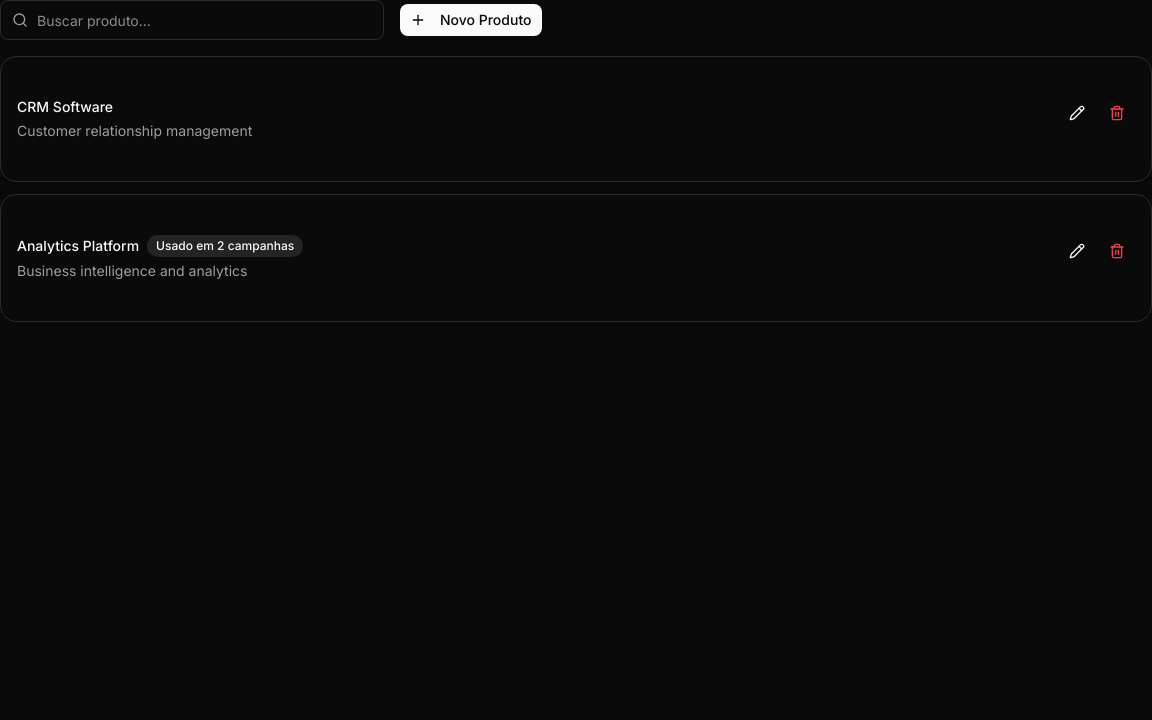
Test: ProductList (AC: #2, #7) › Edit Product › opens dialog with product data when edit is clicked
The width and height of the screenshot is (1152, 720).
Click the button named "Editar produto" in the row of "Customer relationship management". click: x=1077, y=113
box: 1059,97 -> 1095,129
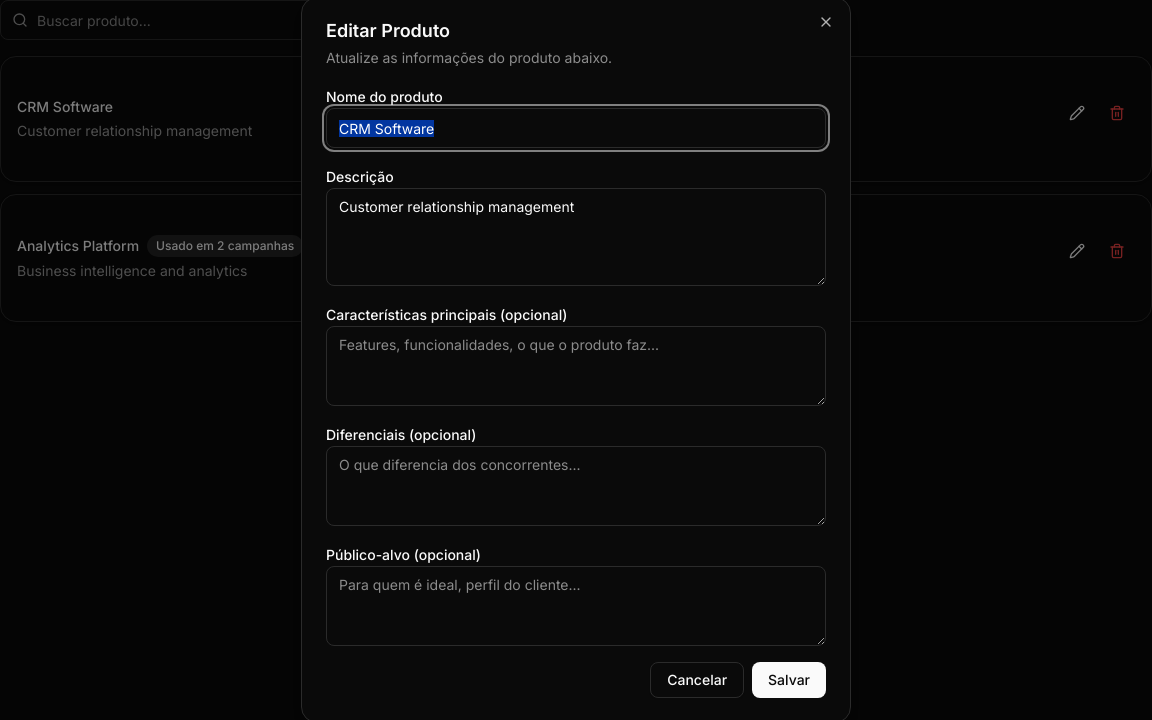
Expected: the heading "Editar Produto" is shown, 326,20 -> 450,41
